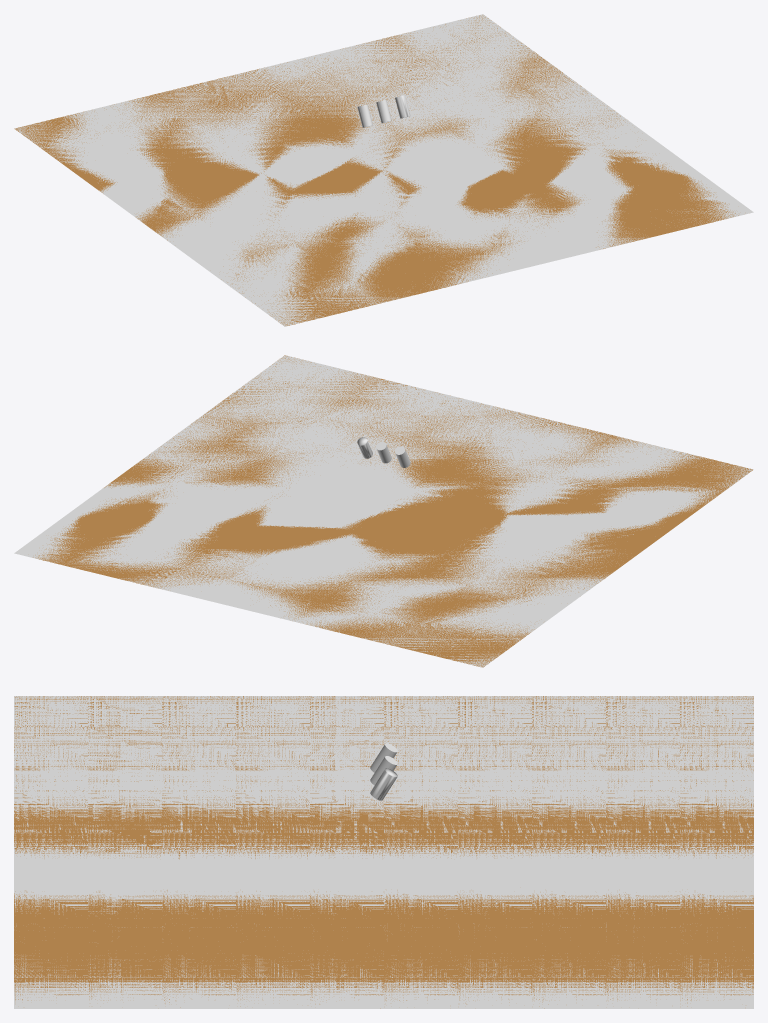
Rendered from Cylinders.glb.
The picture shows the model from 3 angles, top to bottom: view 1: azimuth 30°, elevation 25°; view 2: azimuth 150°, elevation 25°; view 3: azimuth 270°, elevation 25°; orthographic projection. The views are drawn at different scales.
Visible parts, largest first — view 1: GroundPlane, GroundPlane.Mesh; view 2: GroundPlane, GroundPlane.Mesh; view 3: GroundPlane, GroundPlane.Mesh.
Part boxes in pixels (bbox=[...]): GroundPlane: bbox=[14, 14, 753, 326]; GroundPlane.Mesh: bbox=[14, 15, 738, 325]; GroundPlane: bbox=[14, 355, 753, 667]; GroundPlane.Mesh: bbox=[33, 355, 752, 667]; GroundPlane: bbox=[14, 696, 753, 1008]; GroundPlane.Mesh: bbox=[14, 696, 753, 1008].
Bounding box in the file's own units: 50 × 7.12 × 50.
